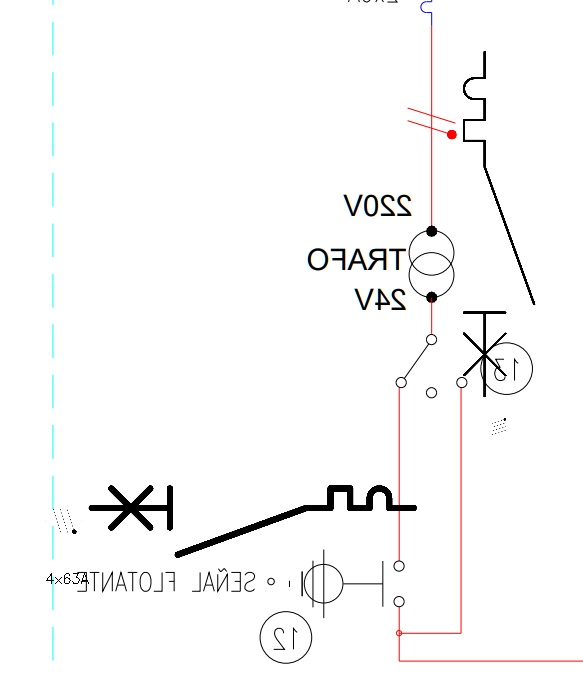interruptor_termomagnetico: (455, 43, 543, 405), (83, 480, 422, 563)
